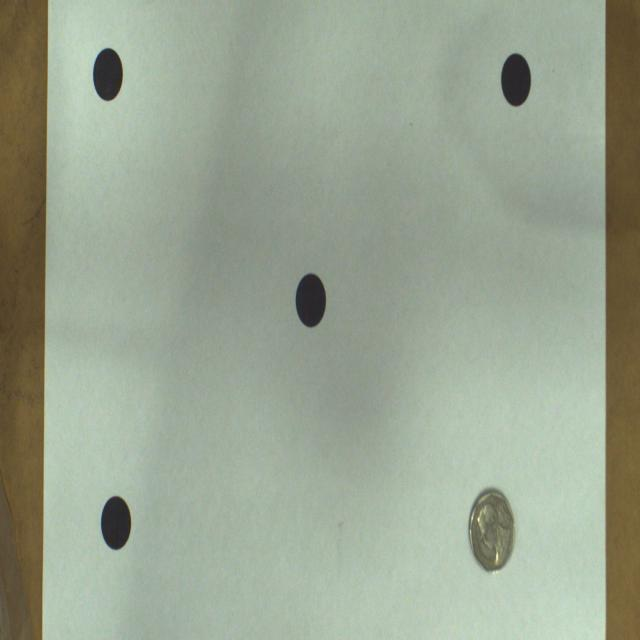head5bath: (469, 491, 514, 571)
space: (295, 273, 326, 327), (101, 496, 131, 551), (501, 53, 531, 107), (92, 49, 122, 101)
